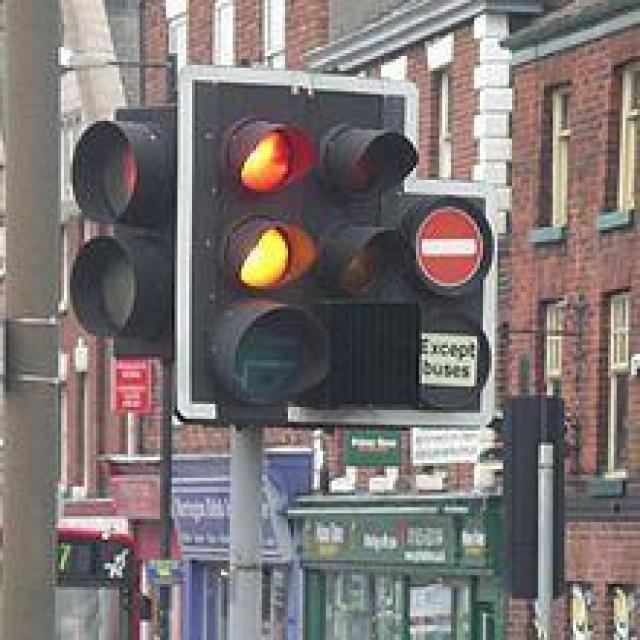yellow_light: (201, 109, 332, 404)
